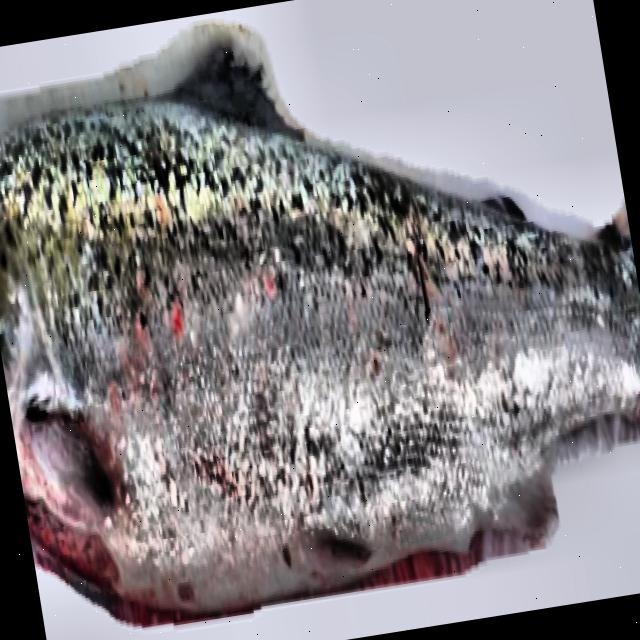mild_red: (0, 104, 640, 607)
wound: (22, 481, 205, 633)
